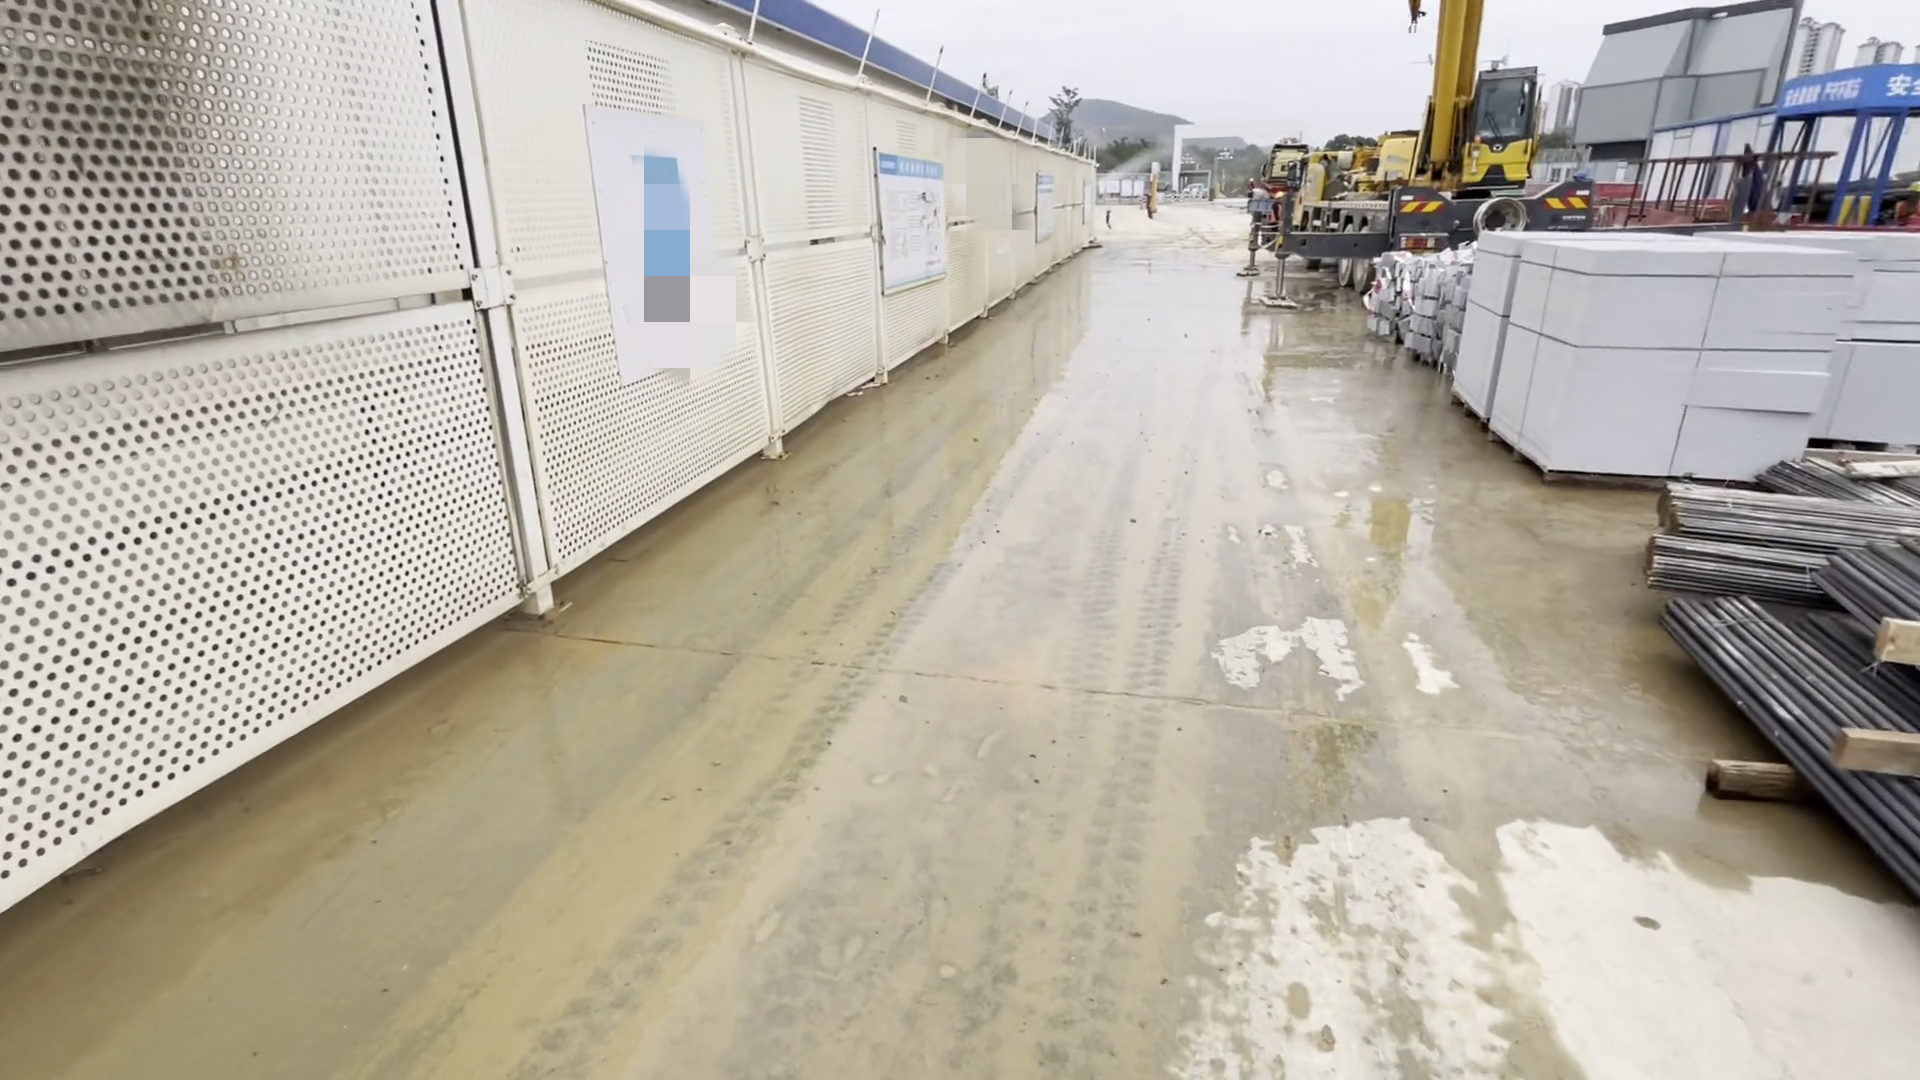brick: (1460, 237, 1899, 488)
slogan: (862, 152, 953, 307)
